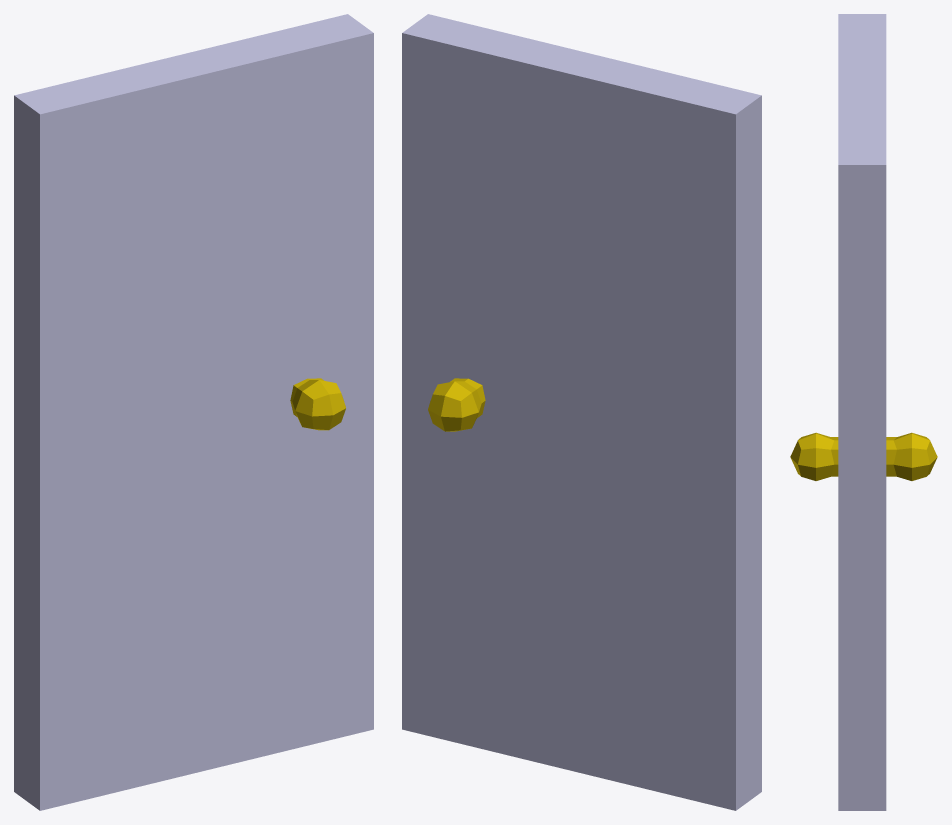
File: door.fbx
The picture shows the model from 3 angles, left to right: view 1: azimuth 30°, elevation 25°; view 2: azimuth 150°, elevation 25°; view 3: azimuth 270°, elevation 25°; orthographic projection. The views are drawn at different scales.
Parts seen in each view (by area): view 1: Cube, Cube.001; view 2: Cube, Cube.001; view 3: Cube, Cube.001.
Boxes of the visible parts, bbox=[...] form: Cube: bbox=[14, 14, 373, 810]; Cube.001: bbox=[290, 378, 345, 430]; Cube: bbox=[402, 14, 761, 810]; Cube.001: bbox=[428, 378, 485, 431]; Cube: bbox=[838, 14, 886, 810]; Cube.001: bbox=[790, 432, 937, 480].
Bounding box in the file's own units: 200 × 399 × 82.51.
